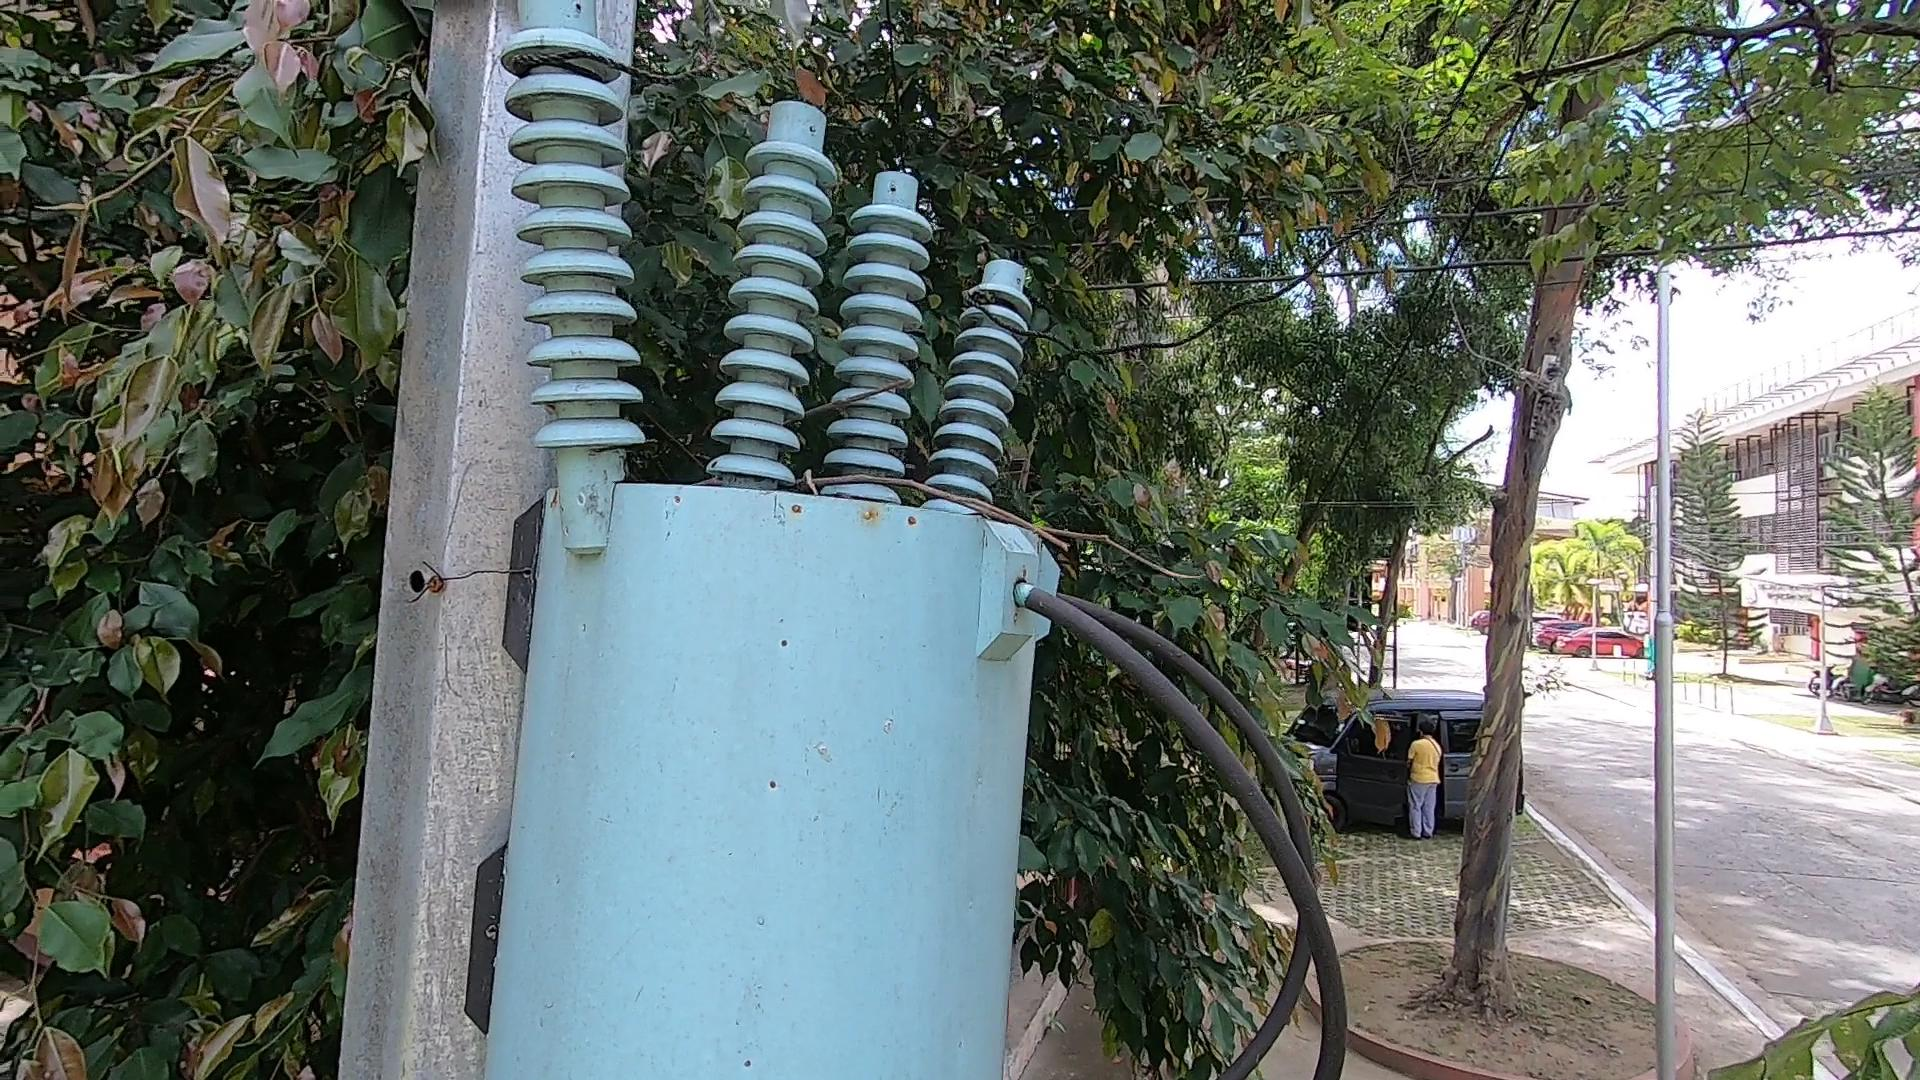tree branch: (769, 385, 1218, 607)
